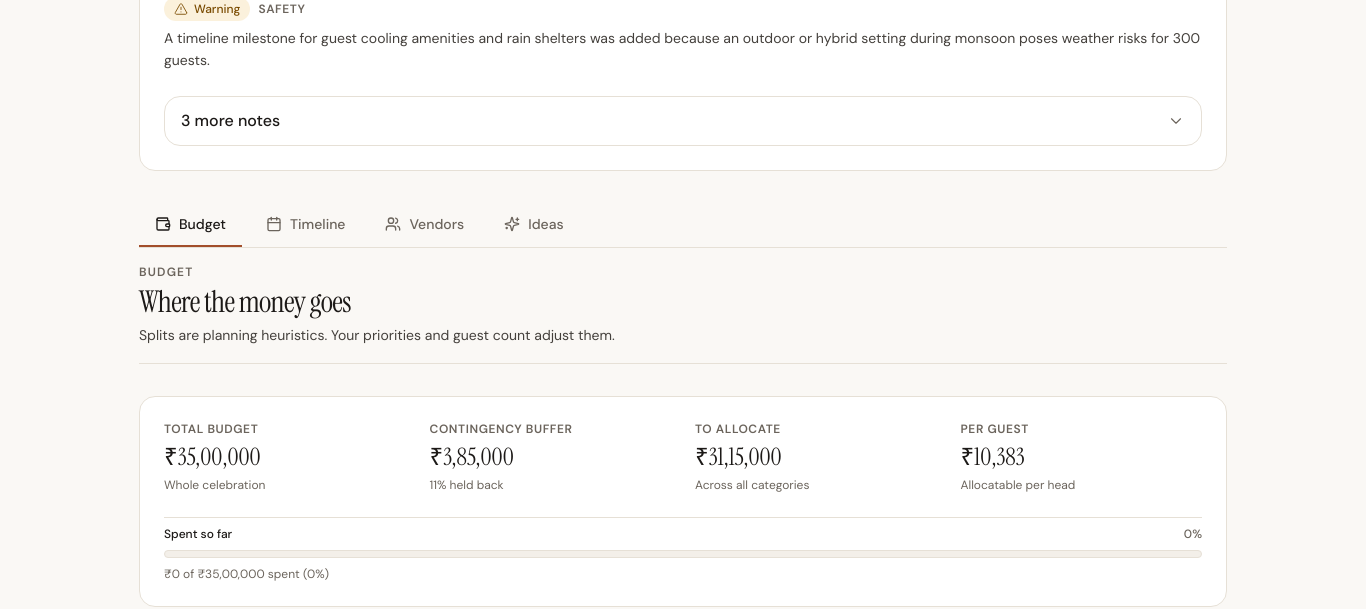
Test: Vendors and Ideas Interaction Tests › validates empty quote submission, adds valid quote card with all-in total, and removes on confirmation
This screenshot has width=1366, height=609.
(page scrolled)
# Switch to Vendors tab
Click the tab "Vendors" at point(425, 225), box x1=370 y1=203 x2=480 y2=247
(page scrolled)
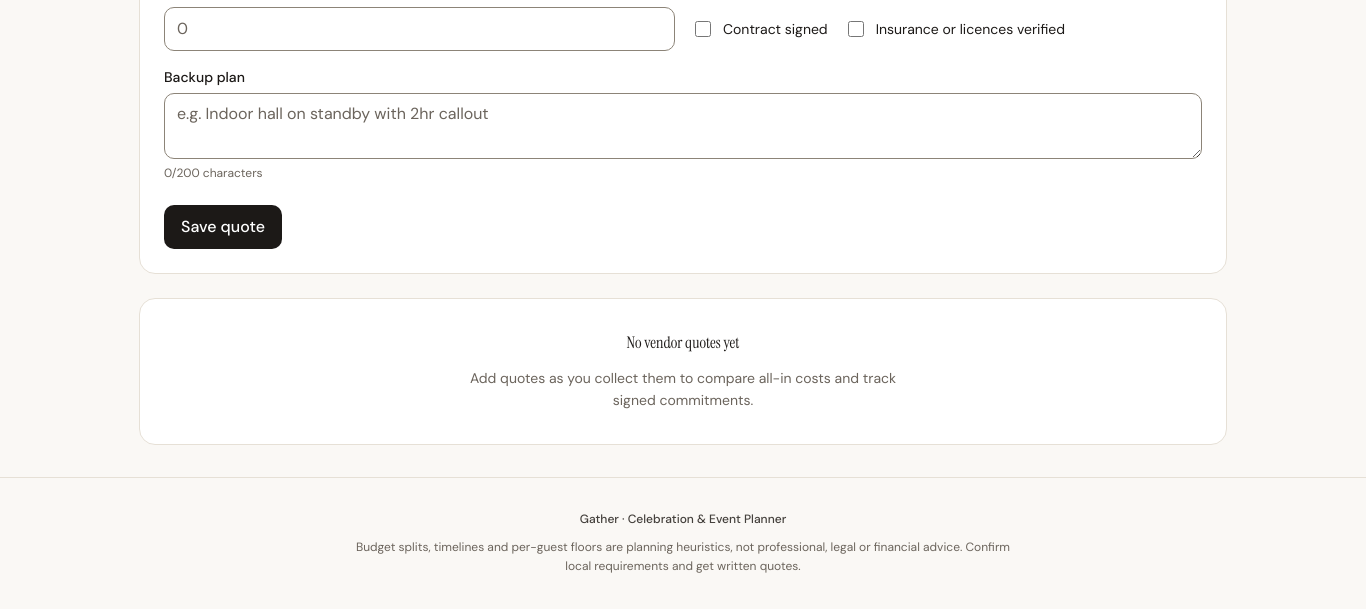
# Click Save quote with empty form
Click the button "Save quote" at point(223, 226), box x1=164 y1=204 x2=282 y2=248
(page scrolled)
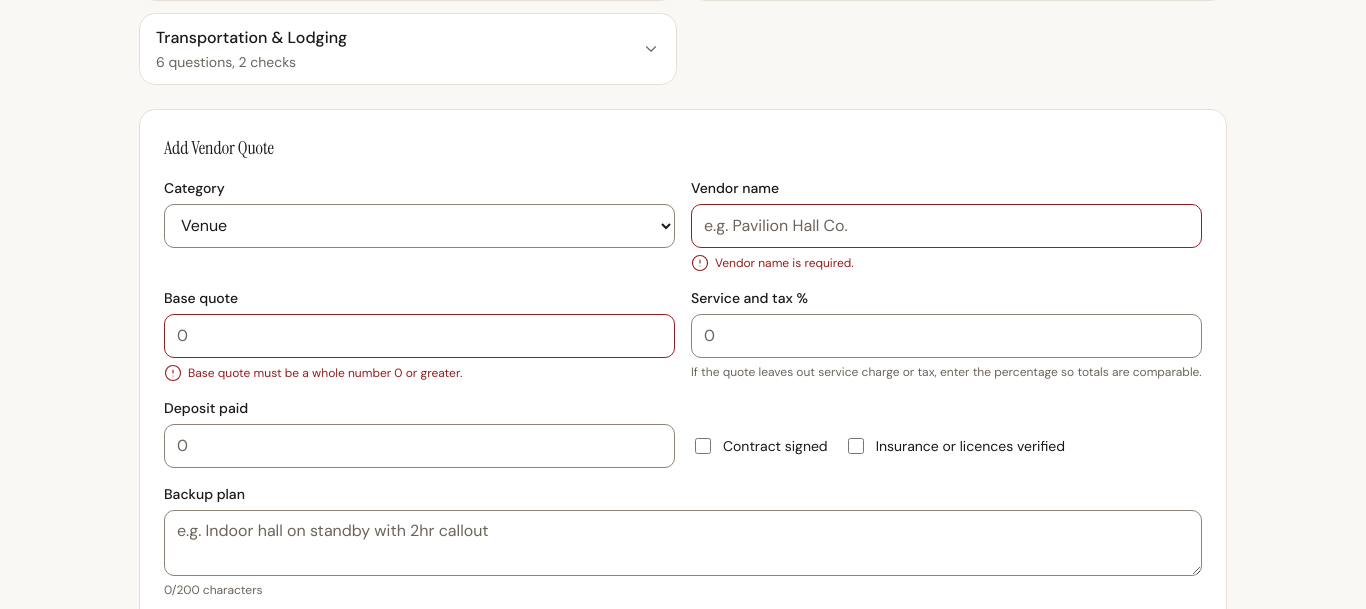
Expected: the text "Vendor name is required." is shown, x1=715 y1=254 x2=854 y2=270
Expected: the text "Base quote must be a whole number 0 or greater." is shown, x1=188 y1=364 x2=462 y2=380
# Enter valid quote details
Type "Grand Palace Catering" into the field labelled "Vendor name" at point(946, 226), box x1=691 y1=204 x2=1202 y2=248
Type "50000" into the field labelled "Base quote" at point(420, 336), box x1=164 y1=314 x2=675 y2=358
(page scrolled)
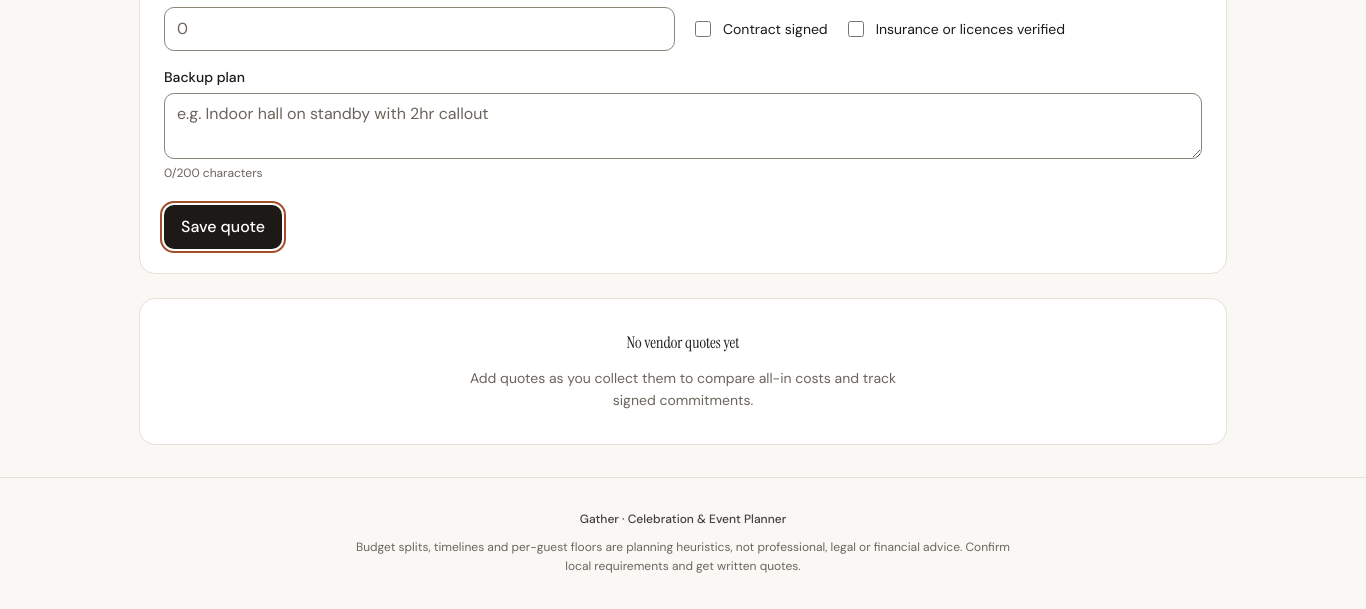
Click the button "Save quote" at point(223, 226), box x1=164 y1=204 x2=282 y2=248
(page scrolled)
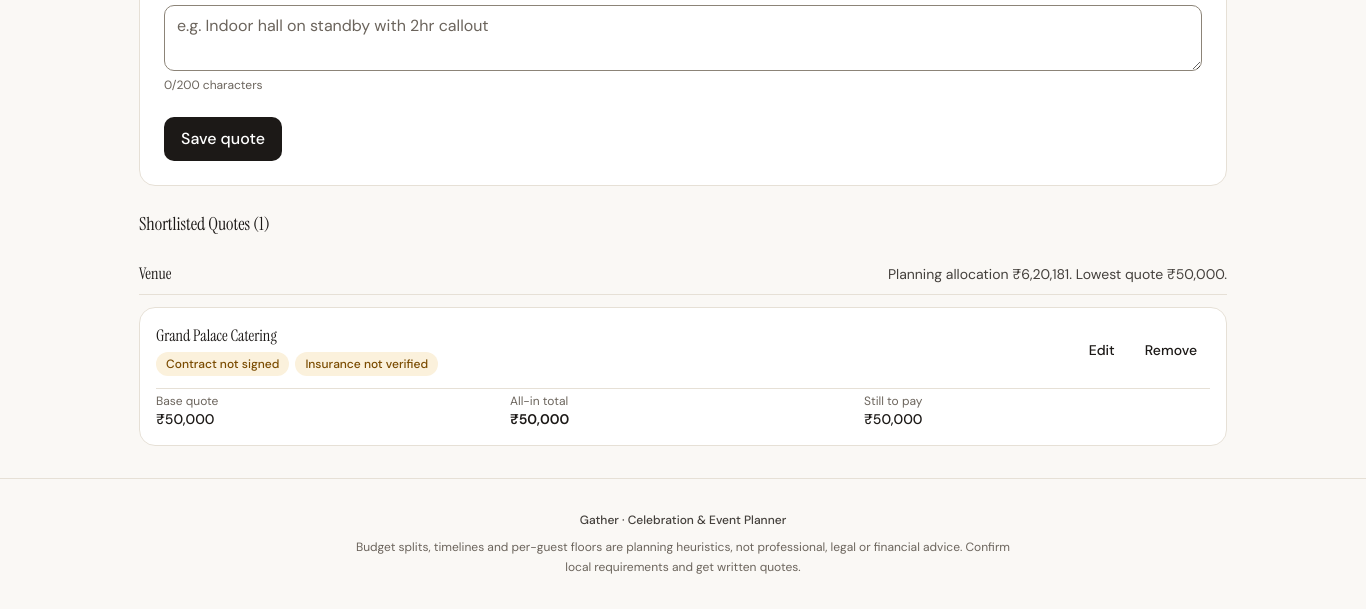
# Click remove
Click the button "Remove" at point(1171, 350), box x1=1132 y1=332 x2=1210 y2=368
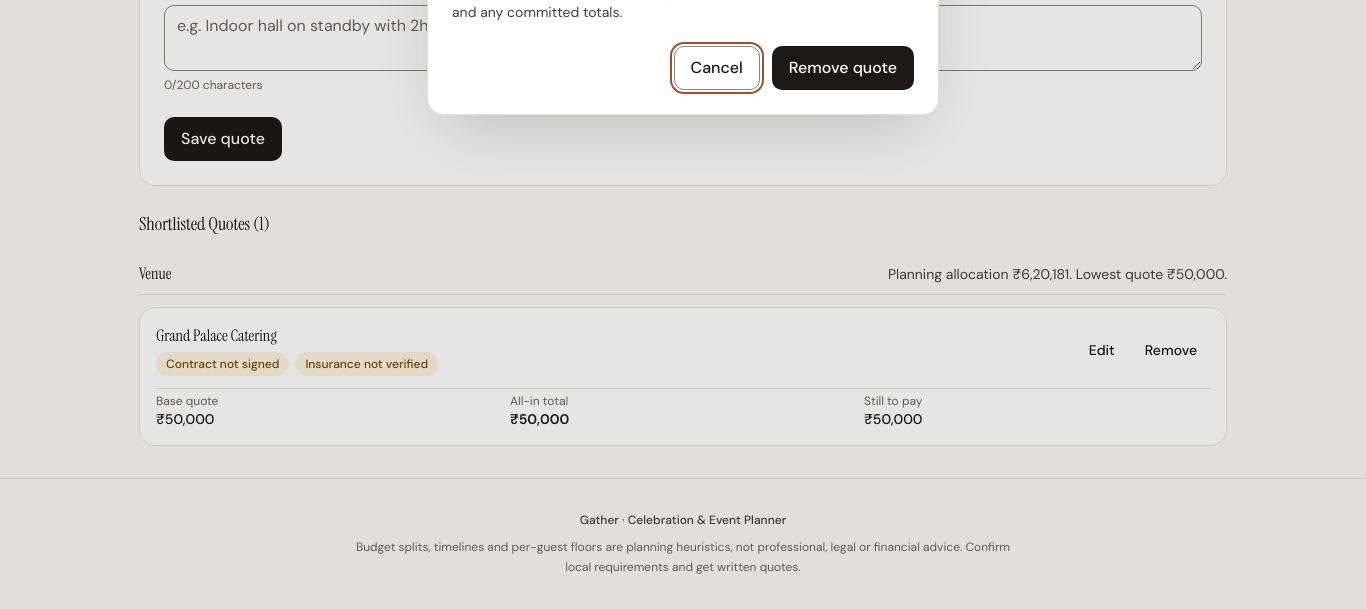
# Confirmation dialog appears
Click the button "Remove quote" at point(843, 68), box x1=772 y1=46 x2=914 y2=90
(page scrolled)
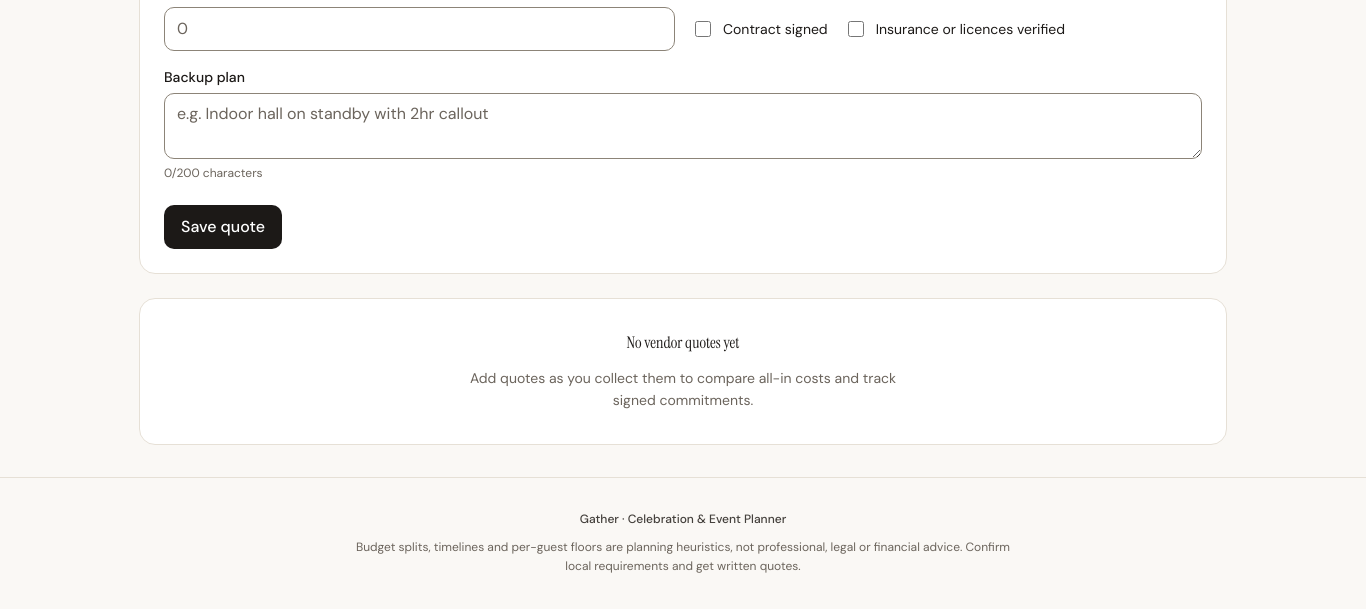
Expected: the heading "Grand Palace Catering" is gone
